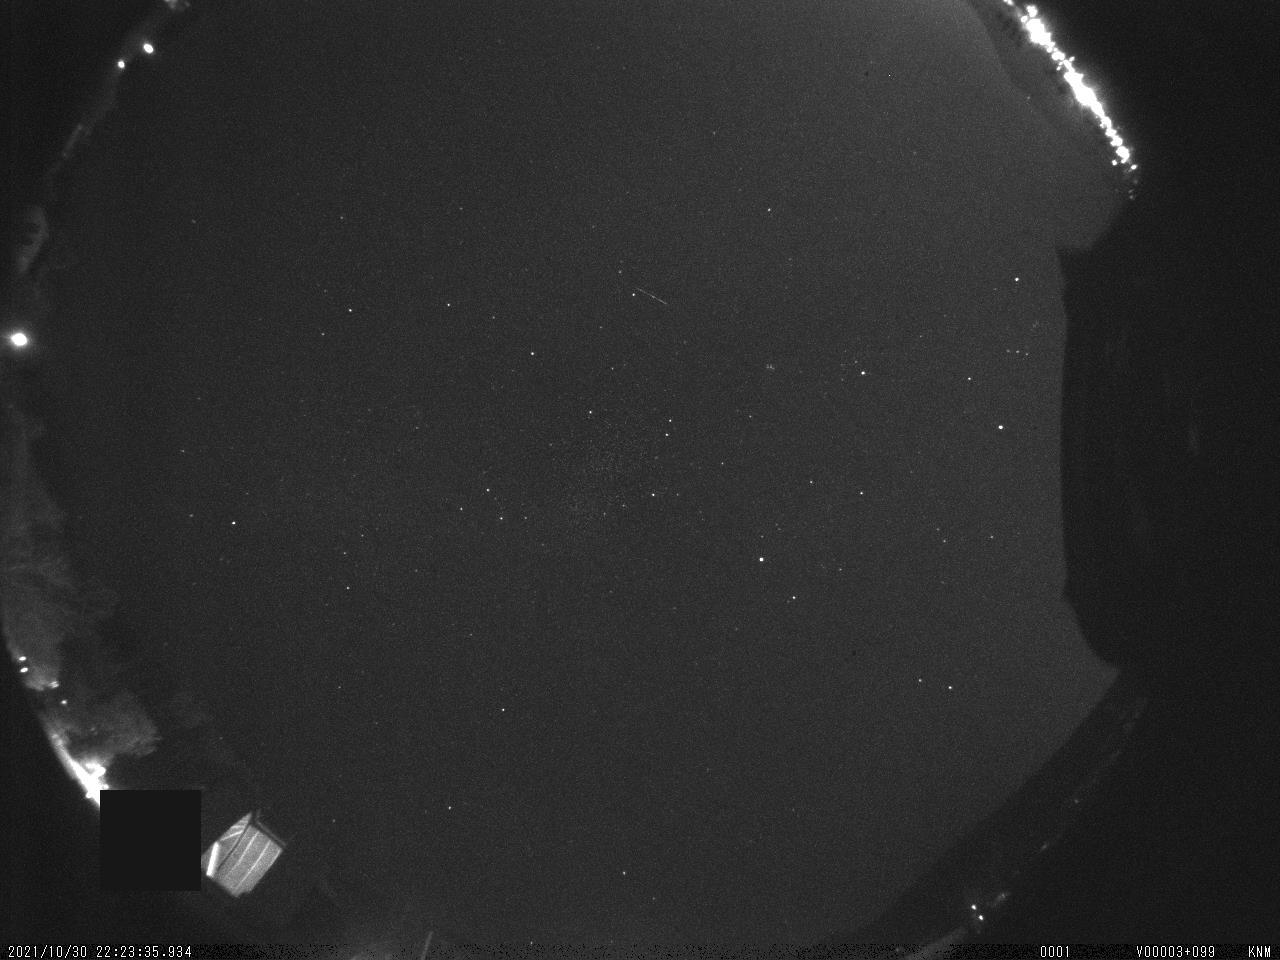meteor: (628, 279, 678, 312)
